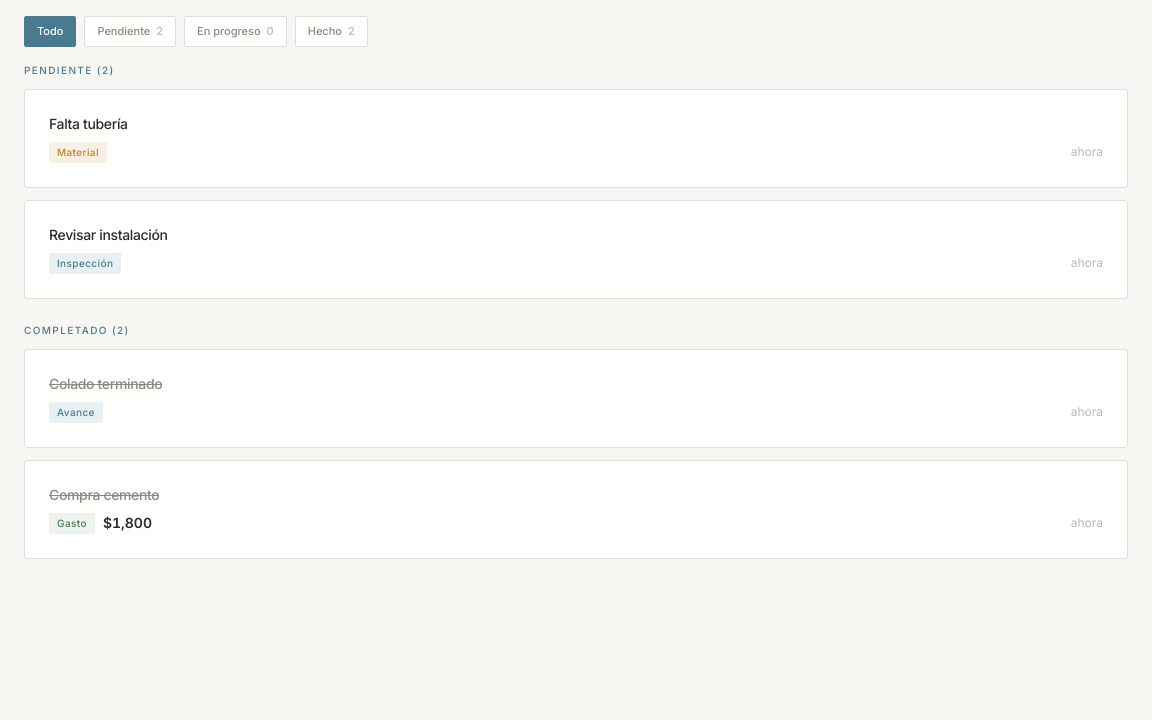
Test: TaskList › filters tasks when a filter chip is clicked
Click the button "Pendiente 2": (130, 31) [84,16,176,46]
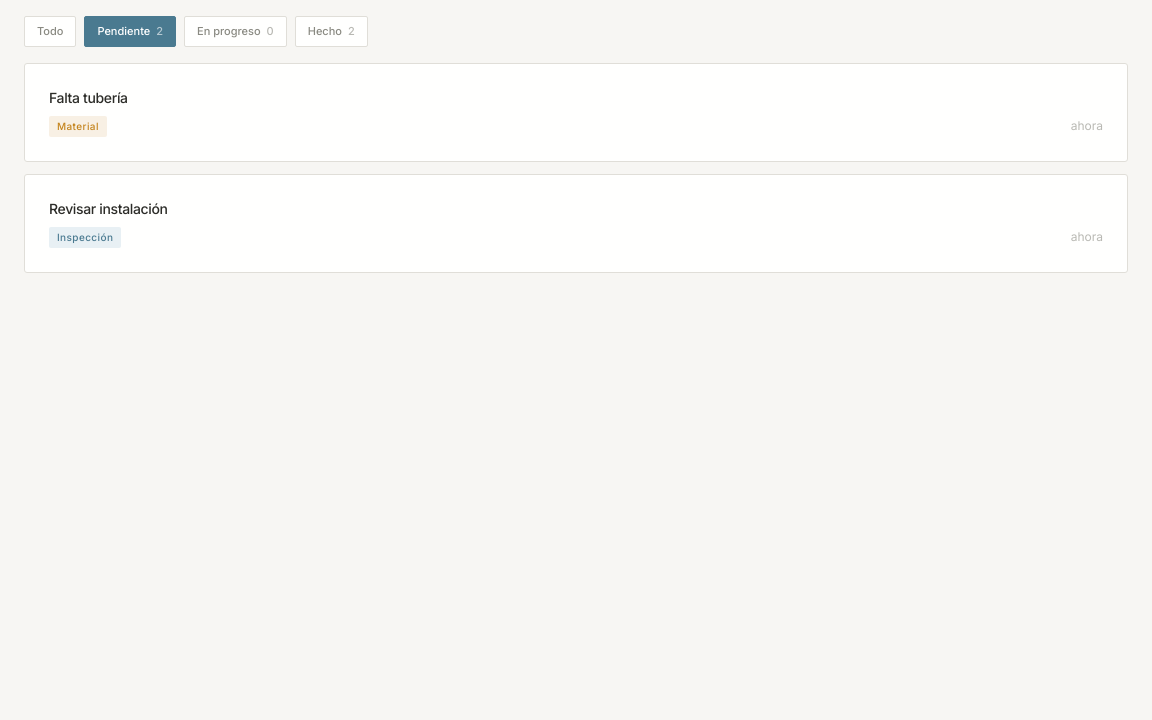
Expected: the number of buttons with test id "task-card" is 2, [24,62,1128,162]; [24,174,1128,272]
